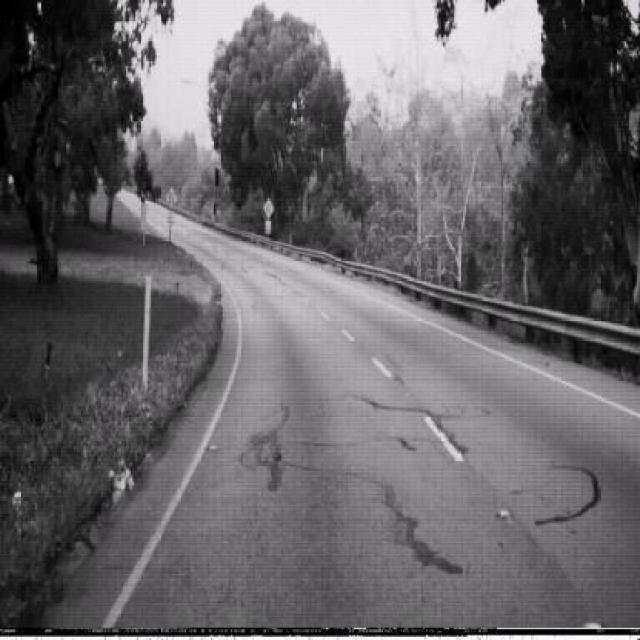laneEnds: (165, 186, 177, 211), (263, 195, 274, 218)
